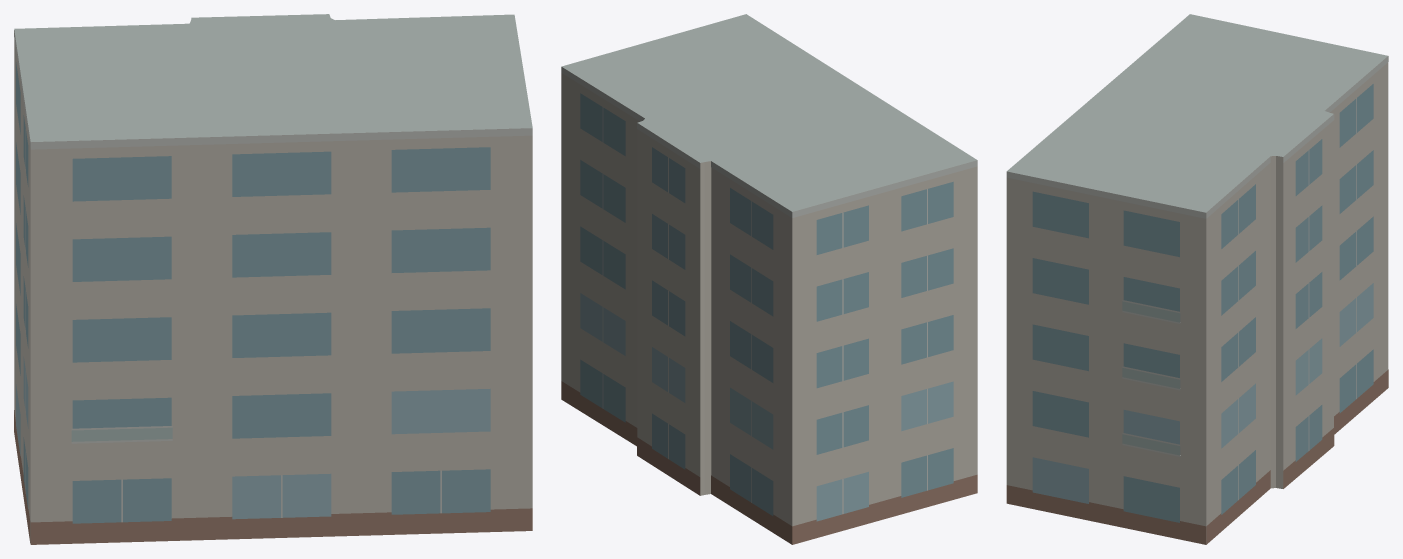
File: survey-upis-32881821.glb
3 renders of one model, left to right at view 1: azimuth 30°, elevation 25°; view 2: azimuth 150°, elevation 25°; view 3: azimuth 270°, elevation 25°, orthographic. The views are drawn at different scales.
Parts seen in each view (by area): view 1: survey-upis-32881821.tmp; view 2: survey-upis-32881821.tmp; view 3: survey-upis-32881821.tmp.
Part boxes in pixels (x1=…): survey-upis-32881821.tmp: x1=14, y1=14, x2=532, y2=544; survey-upis-32881821.tmp: x1=561, y1=14, x2=977, y2=544; survey-upis-32881821.tmp: x1=1006, y1=14, x2=1388, y2=544.
Bounding box in the file's own units: 16.88 × 13.15 × 13.71.
